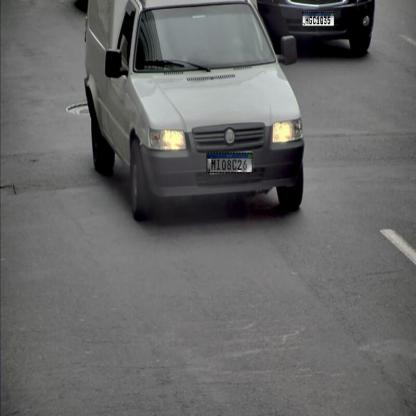PlacaM: (206, 152, 253, 174), (302, 12, 334, 26)
